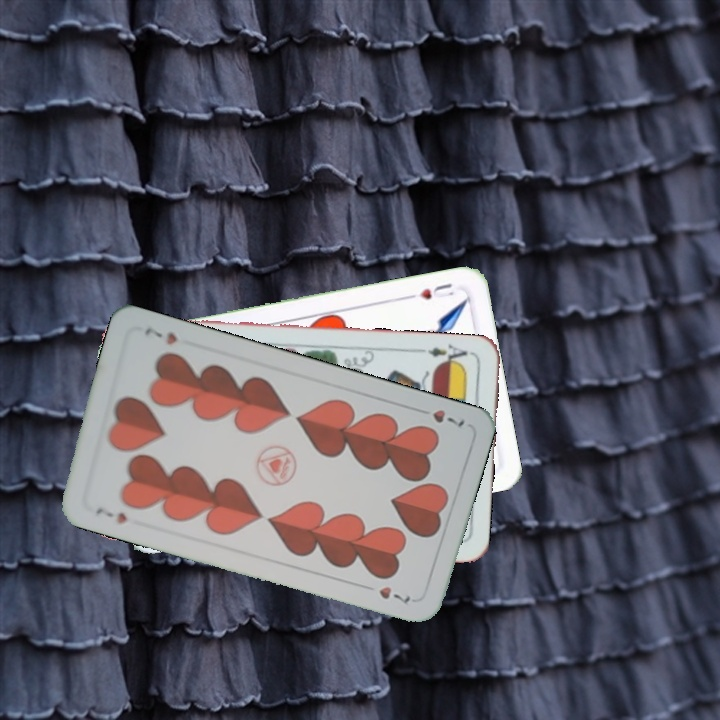EA: (416, 340, 470, 368)
H7: (412, 404, 468, 430), (92, 504, 130, 527)
HU: (403, 279, 457, 302)
